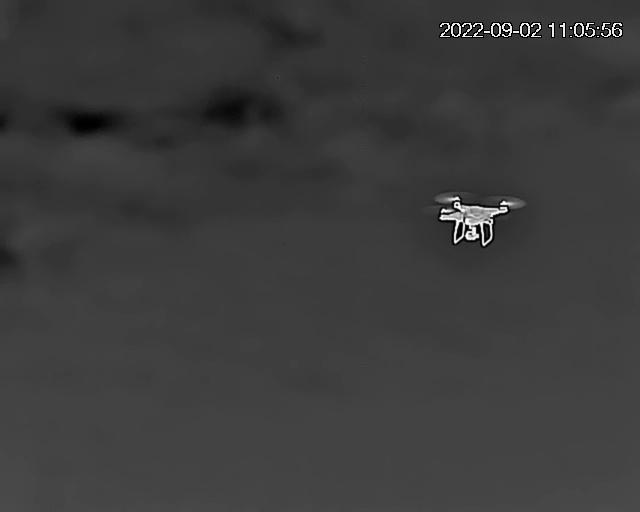DJI-Phantom: (436, 195, 527, 245)
